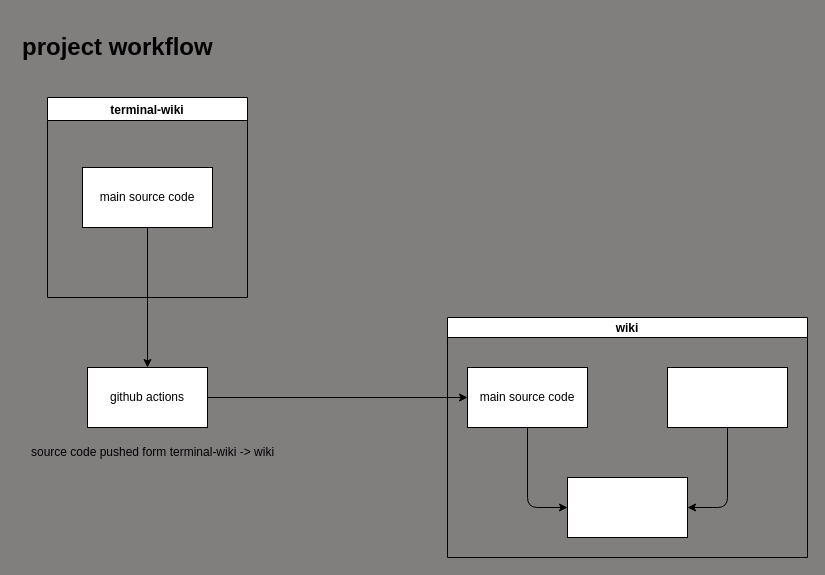
The diagram is 825 pixels wide and 575 high, and some of its shapes have lost their labels. The centre of each missing label's shape, as x and y in pixels:
"snap application" belongs at point (627, 507).
"snapcraft.yaml" belongs at point (727, 397).
